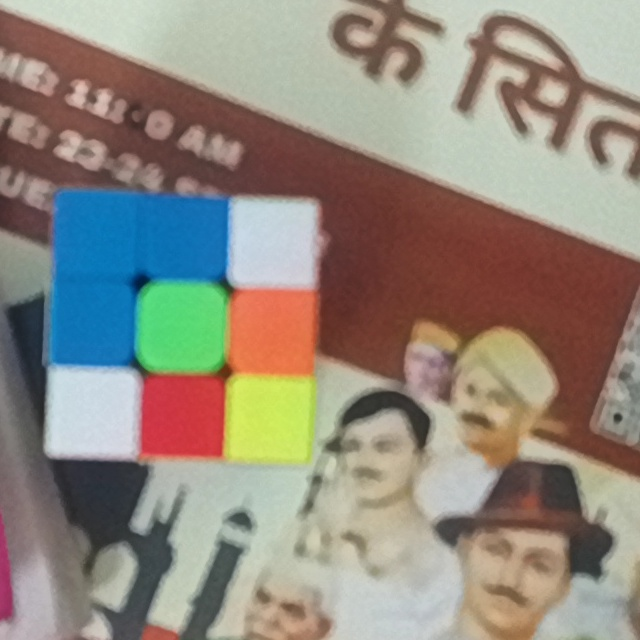tile: (237, 200, 312, 285), (57, 194, 133, 276), (52, 377, 131, 455), (144, 195, 217, 274), (234, 297, 310, 371), (54, 286, 127, 361), (149, 378, 219, 451), (149, 293, 221, 363), (233, 387, 306, 453)
